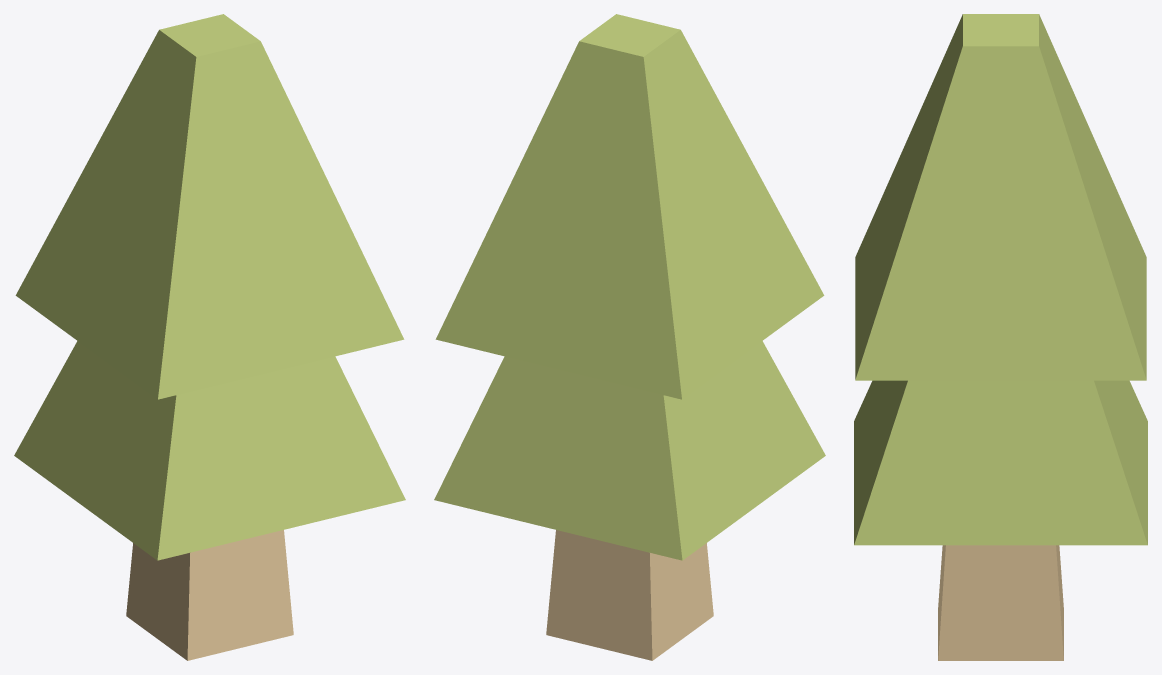
File: Tree_1.fbx
3 views of the same model, side by side, from view 1: azimuth 30°, elevation 25°; view 2: azimuth 150°, elevation 25°; view 3: azimuth 270°, elevation 25° (orthographic). The views are drawn at different scales.
Visible parts, largest first — view 1: Tree; view 2: Tree; view 3: Tree.
Boxes of the visible parts, bbox=[...] form: Tree: bbox=[14, 14, 405, 660]; Tree: bbox=[434, 14, 825, 660]; Tree: bbox=[854, 14, 1147, 660].
Bounding box in the file's own units: 199 × 451 × 199.
